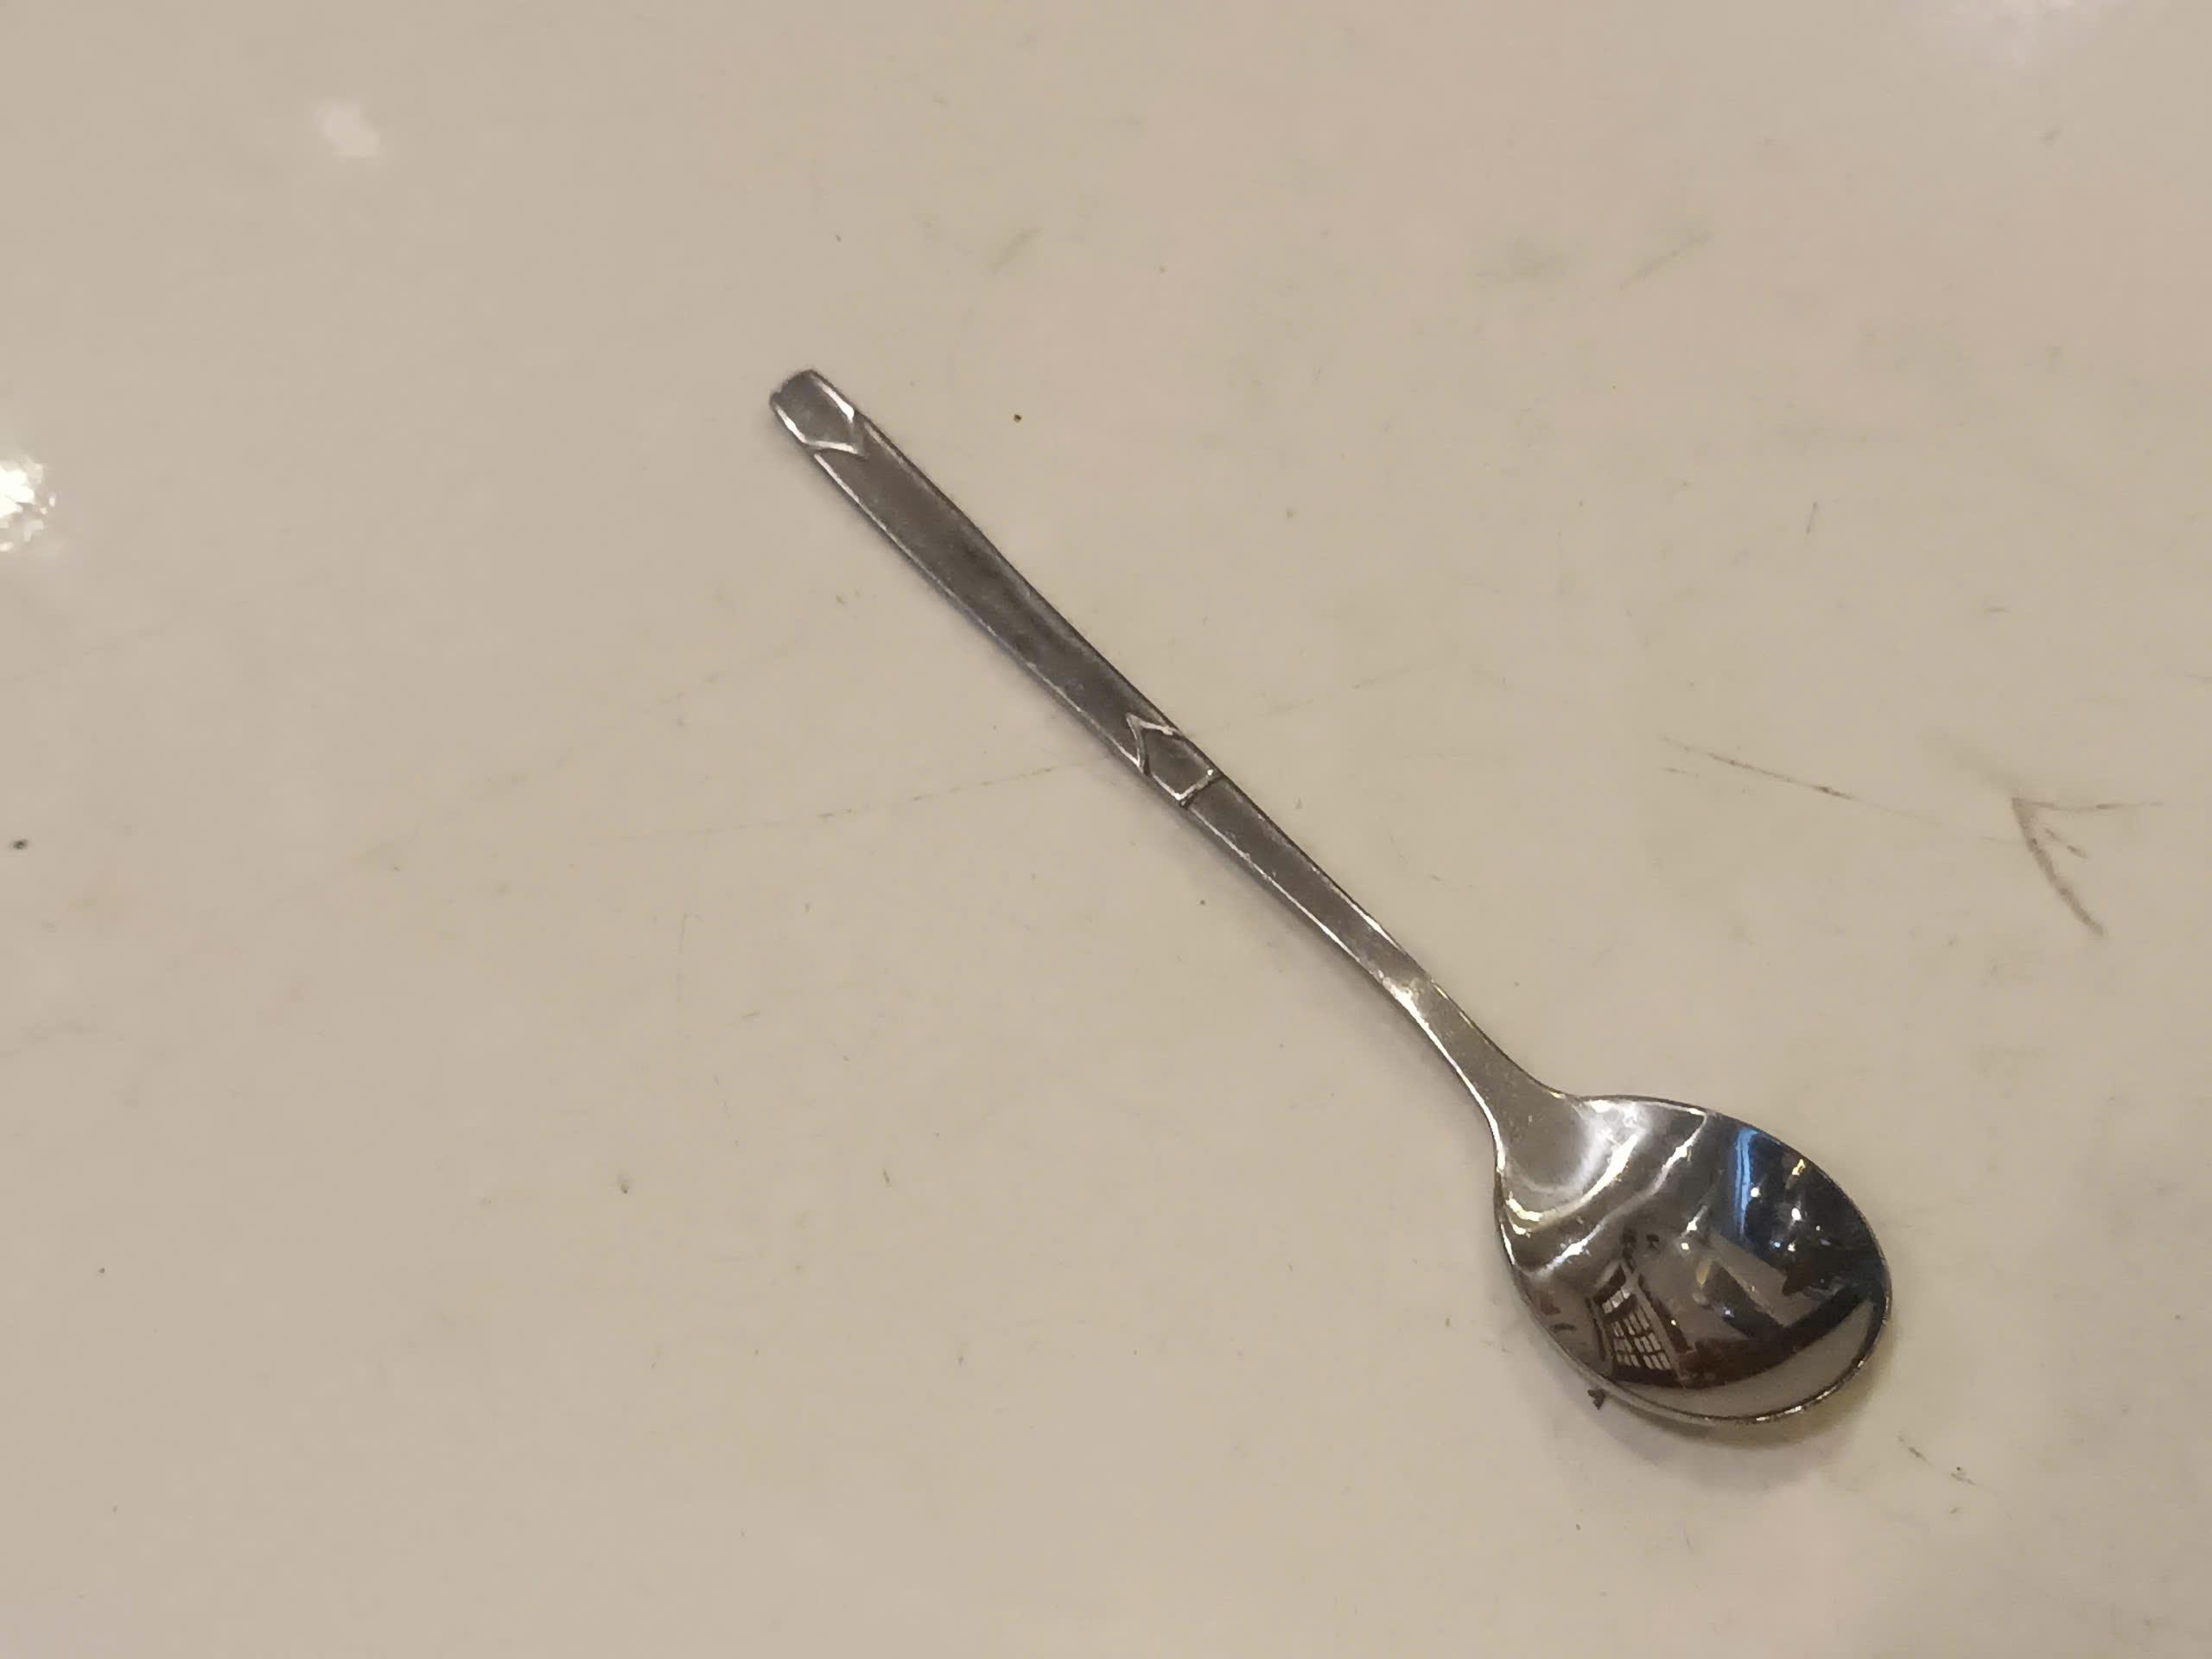Vo co: (770, 357, 1897, 1434)
